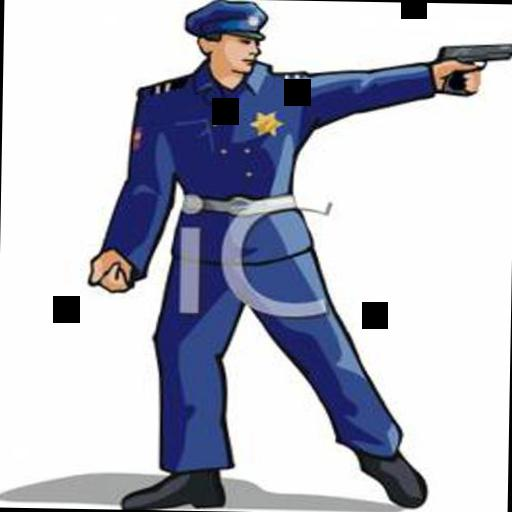Handgun: (431, 41, 512, 95)
